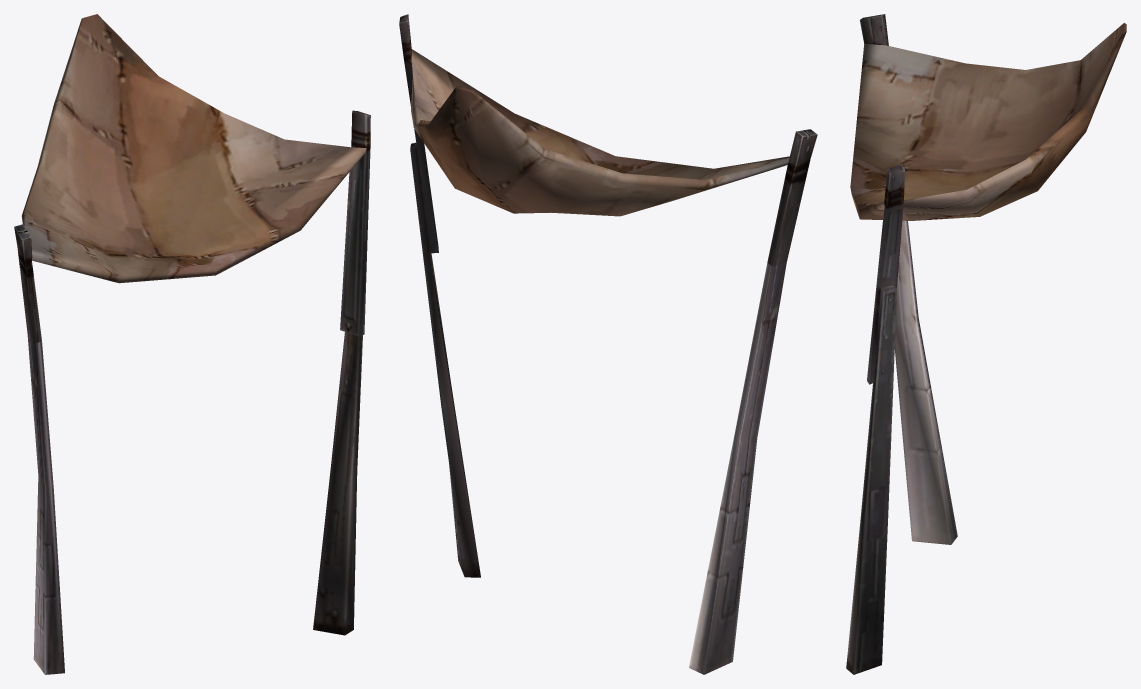
Rendered from all_tent_merchant_small_awning02.glb.
The picture shows the model from 3 angles, left to right: view 1: azimuth 30°, elevation 25°; view 2: azimuth 150°, elevation 25°; view 3: azimuth 270°, elevation 25°; orthographic projection. The views are drawn at different scales.
Parts seen in each view (by area): view 1: all_tent_merchant_small_awning02; view 2: all_tent_merchant_small_awning02; view 3: all_tent_merchant_small_awning02.
Part boxes in pixels (x1,y1,x2,y2): all_tent_merchant_small_awning02: [14, 14, 370, 674]; all_tent_merchant_small_awning02: [399, 14, 817, 674]; all_tent_merchant_small_awning02: [846, 14, 1126, 674].
Size of the model in its own units: 0.3485 by 0.5084 by 0.2229.
1 material, 1 textured.
